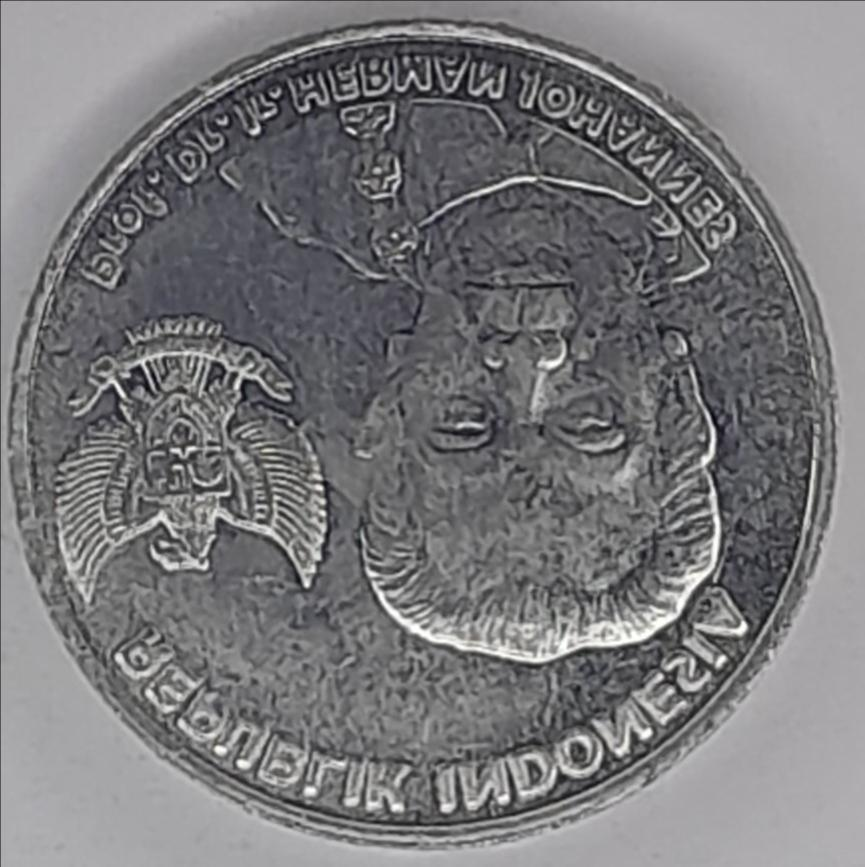coin_100_e2016: (1, 10, 845, 851)
